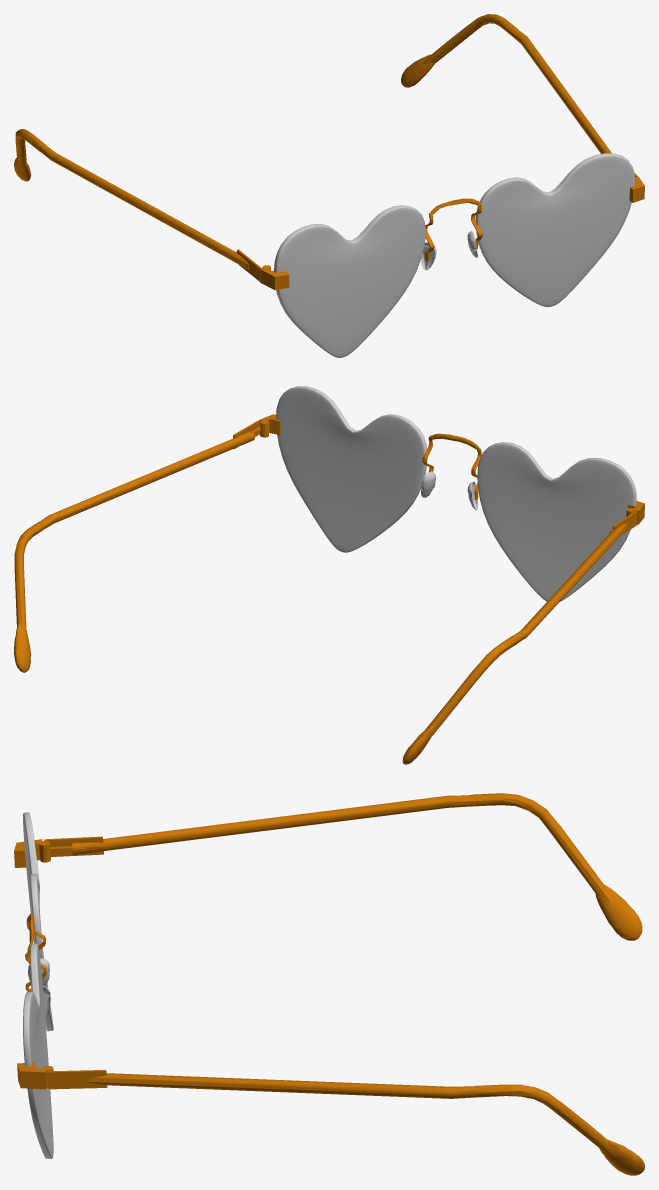
The model's file is Lovely.obj.
3 views of the same model, one above another, from view 1: azimuth 30°, elevation 25°; view 2: azimuth 150°, elevation 25°; view 3: azimuth 270°, elevation 25° (orthographic). The views are drawn at different scales.
Parts seen in each view (by area): view 1: Lovely_mesh2_Cube.006, Lovely_mesh1_Cube.005; view 2: Lovely_mesh2_Cube.006, Lovely_mesh1_Cube.005; view 3: Lovely_mesh1_Cube.005, Lovely_mesh2_Cube.006.
Boxes of the visible parts, box(x1,y1,x2,y2) form: Lovely_mesh2_Cube.006: box(274, 153, 634, 357); Lovely_mesh1_Cube.005: box(14, 14, 644, 289); Lovely_mesh2_Cube.006: box(276, 386, 636, 601); Lovely_mesh1_Cube.005: box(14, 414, 644, 764); Lovely_mesh1_Cube.005: box(14, 793, 644, 1175); Lovely_mesh2_Cube.006: box(23, 812, 53, 1158).
Bounding box in the file's own units: 17.79 × 5.2 × 16.05.
